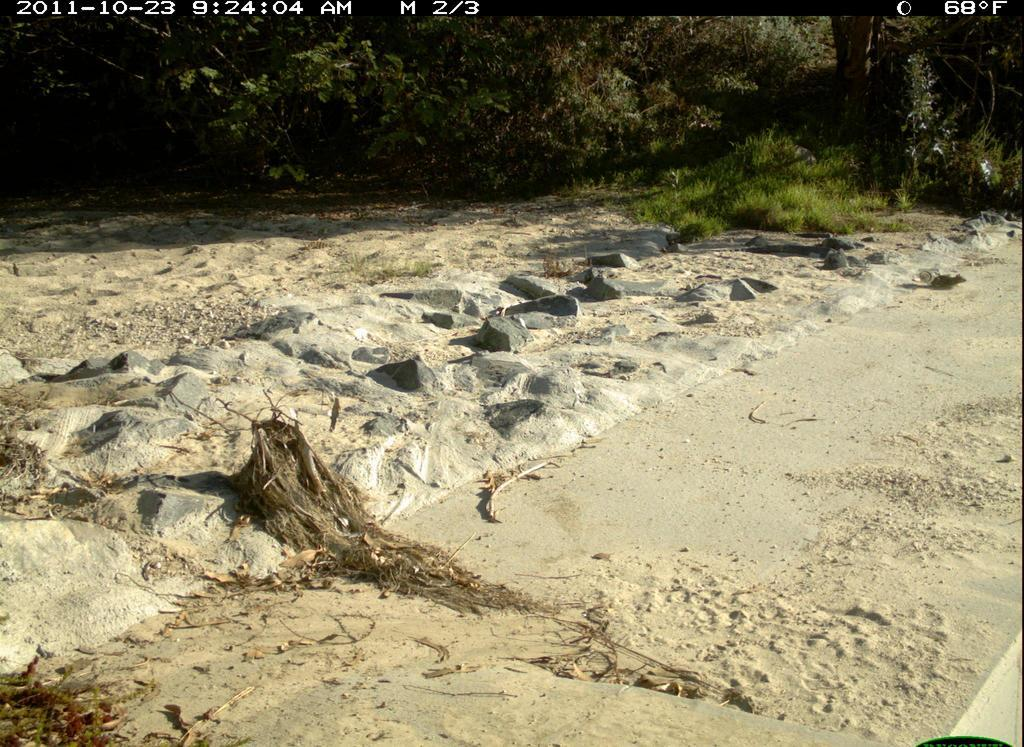squirrel: (900, 273, 970, 295)
